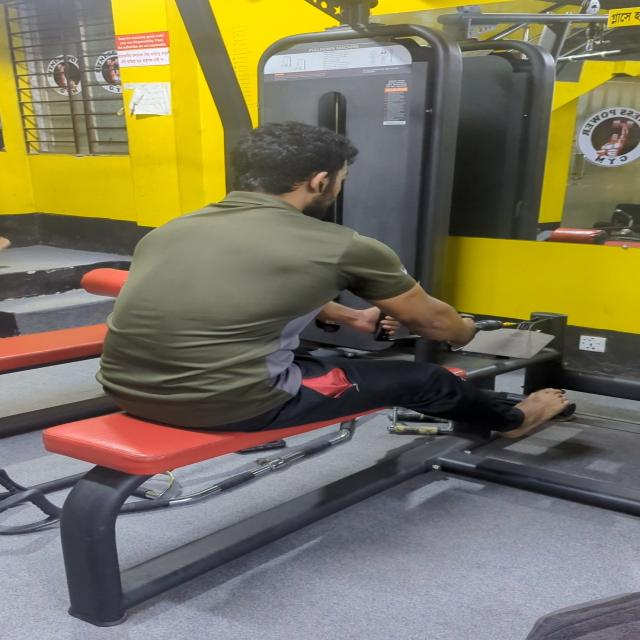Normal_RowingMachineExercise: (33, 121, 640, 523)
